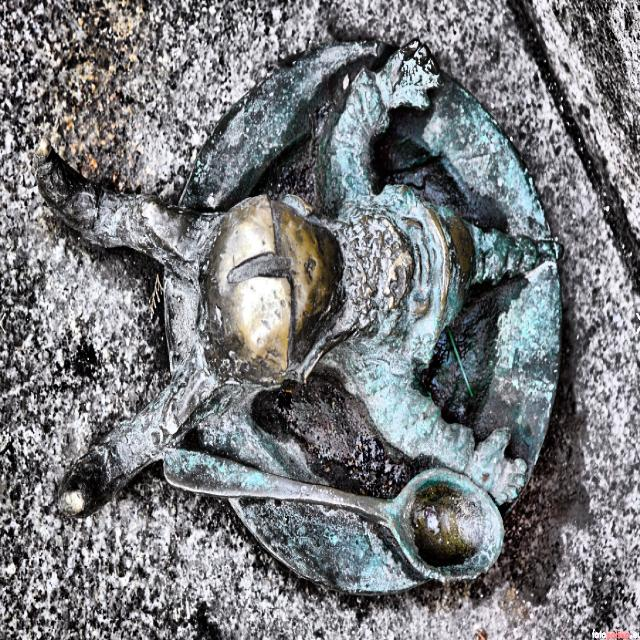Obiezysmak: (36, 41, 564, 597)
